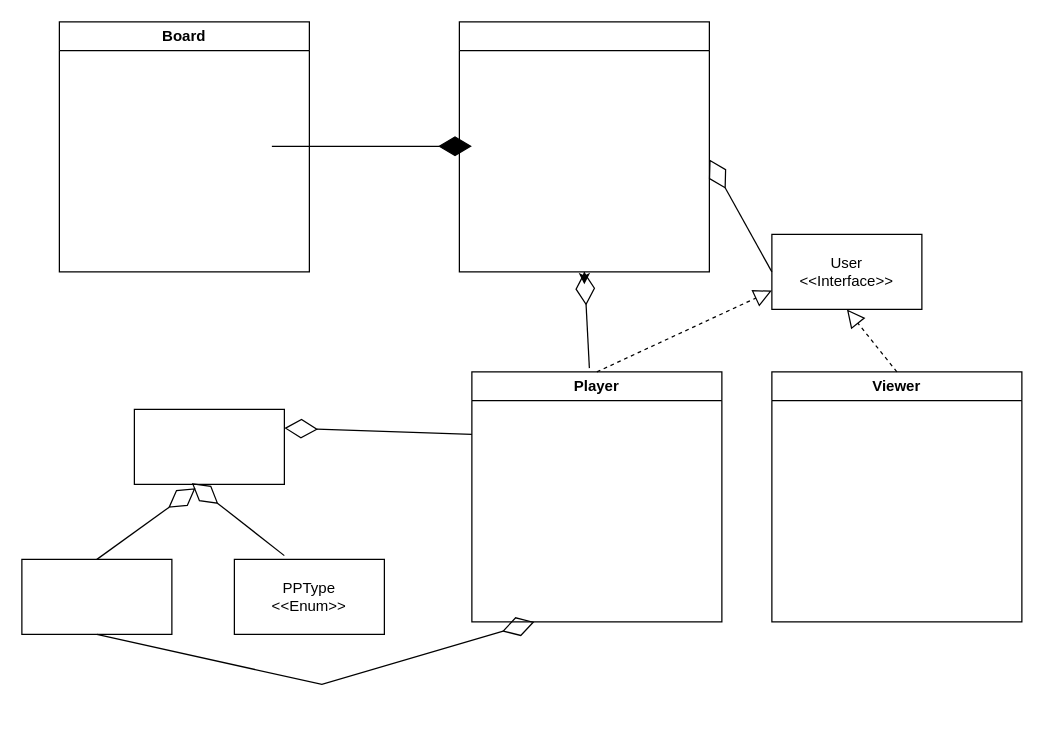
Image size: 1044x739. Some labels were removed from this diagram. Here are the shapes that lost their labels. From the top down, the centre of each, then its label:
At (x=583, y=146): "GameManager".
At (x=208, y=446): "PlayingPiece <<Interface>>".
At (x=96, y=596): "Team <<Enum>>".
